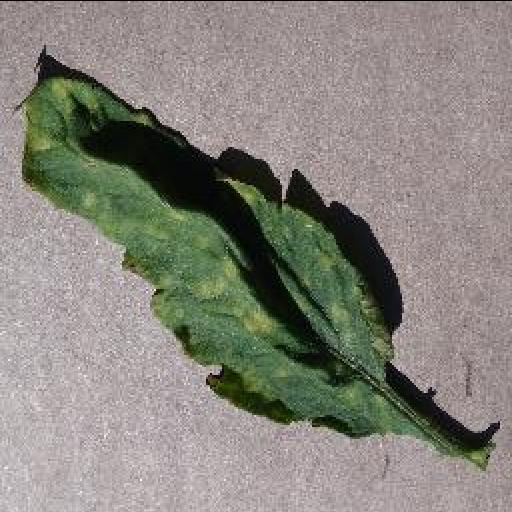disease_tomato: (14, 70, 398, 434)
